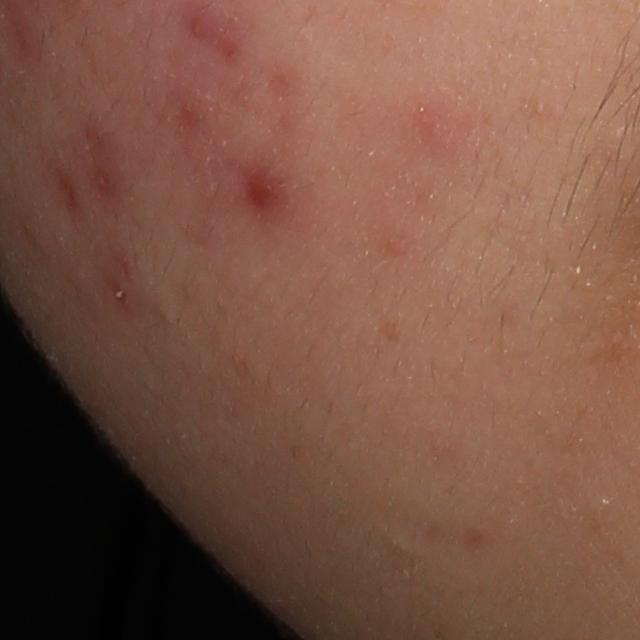papule: (241, 165, 286, 214), (186, 15, 214, 41)
